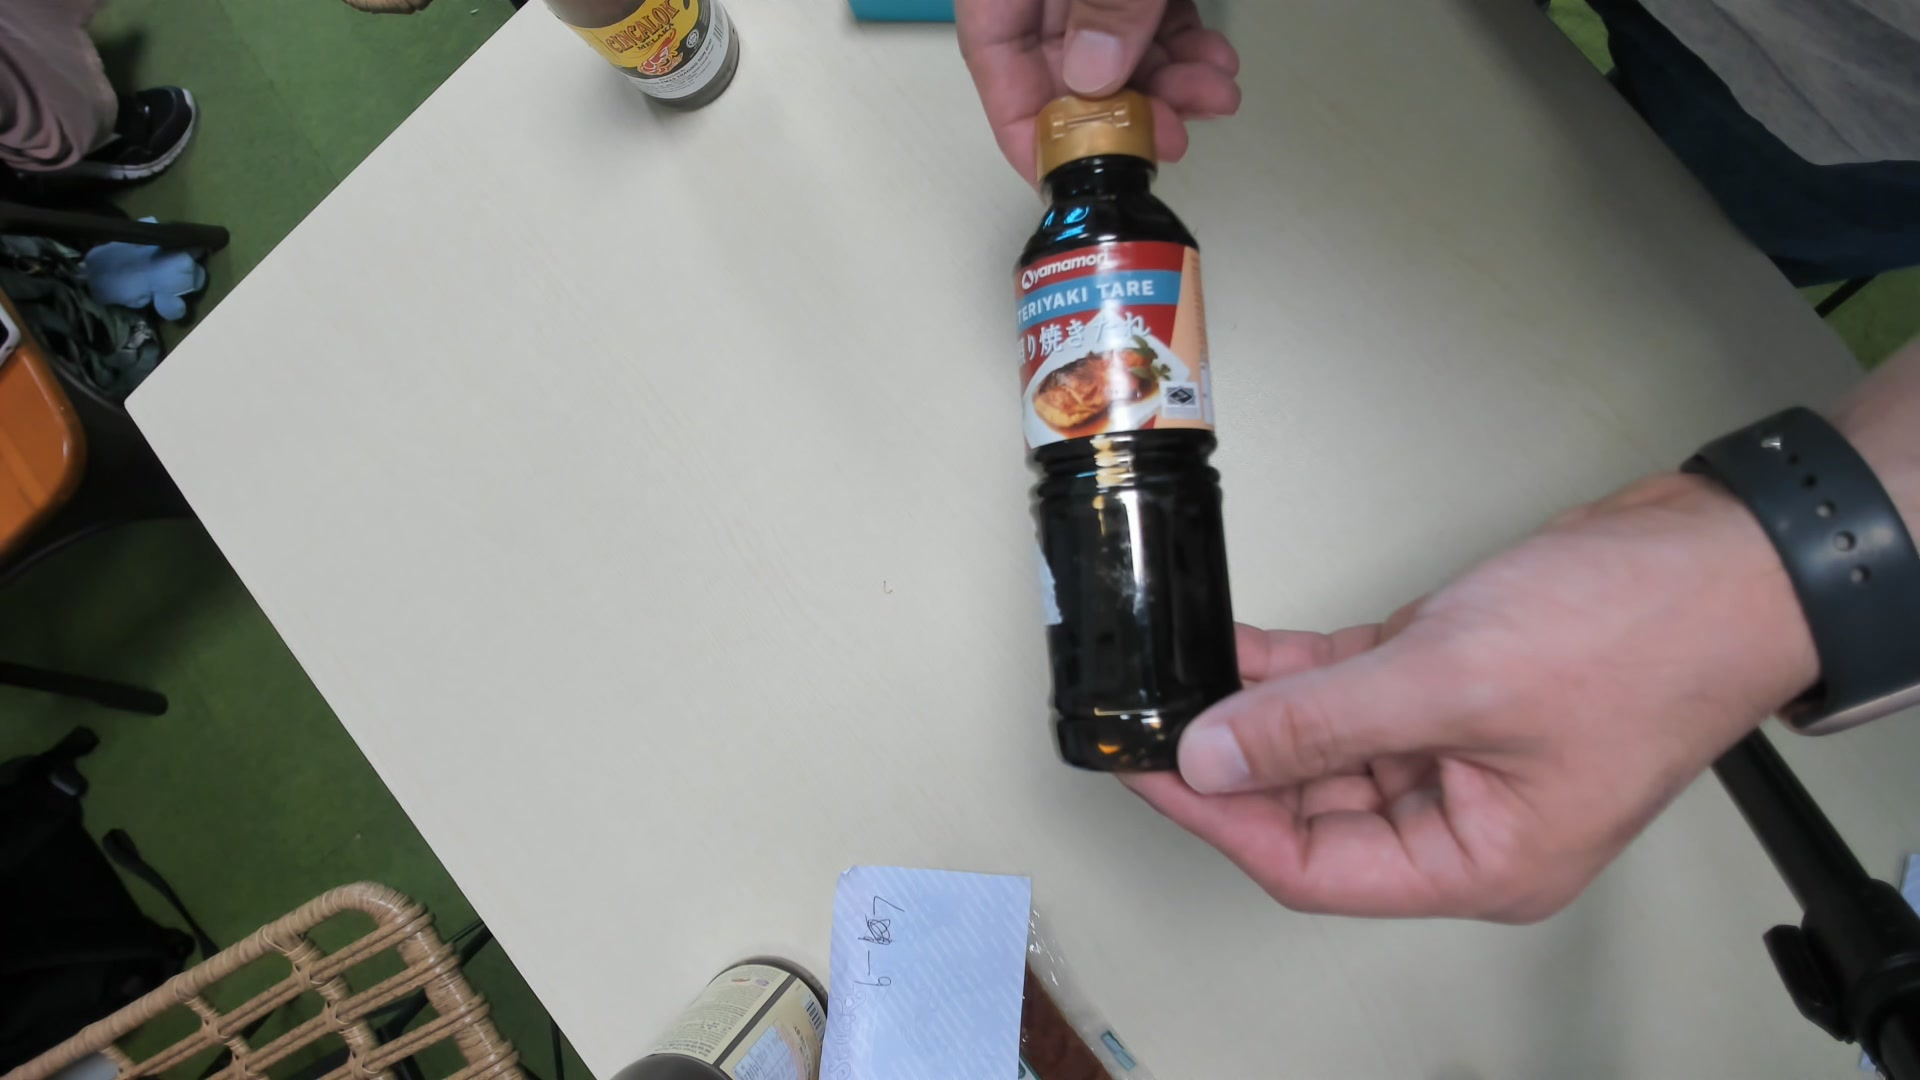OtherSauceDressingSoupbasePaste_200-299g_Halal_NonHealthy: (1005, 84, 1240, 782)
